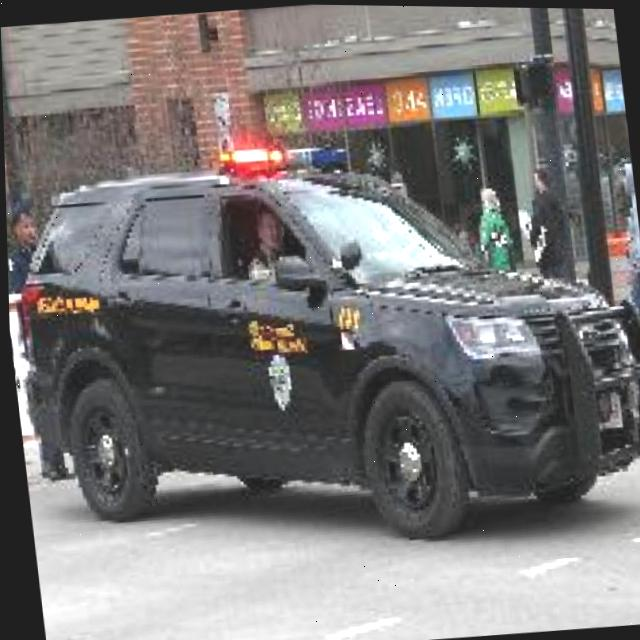emergency: (1, 23, 640, 626)
